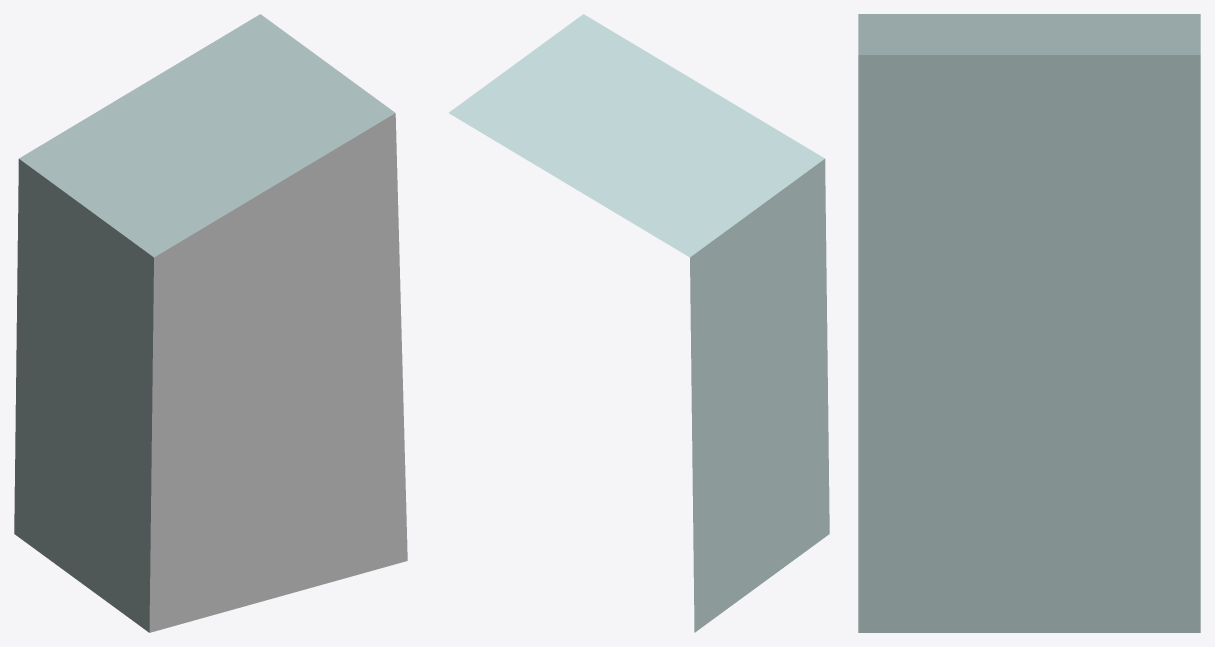
3 renders of one model, left to right at view 1: azimuth 30°, elevation 25°; view 2: azimuth 150°, elevation 25°; view 3: azimuth 270°, elevation 25°, orthographic. The views are drawn at different scales.
Parts seen in each view (by area): view 1: 0_2_3_3_3_0_3_3_1; view 2: 0_2_3_3_3_0_3_3_1; view 3: 0_2_3_3_3_0_3_3_1.
Boxes of the visible parts, bbox=[...] form: 0_2_3_3_3_0_3_3_1: bbox=[14, 14, 407, 632]; 0_2_3_3_3_0_3_3_1: bbox=[449, 14, 829, 632]; 0_2_3_3_3_0_3_3_1: bbox=[858, 14, 1200, 632].
Bounding box in the file's own units: 3.31 × 5.63 × 3.
